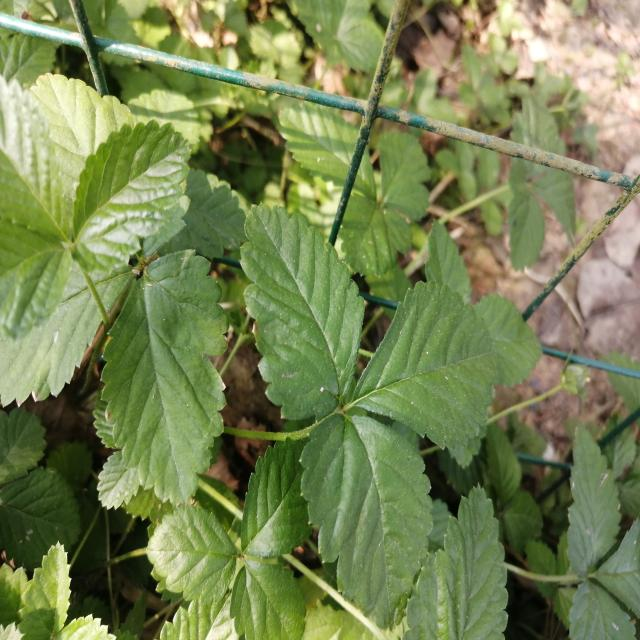Mock_strawberry: (271, 200, 508, 616)
